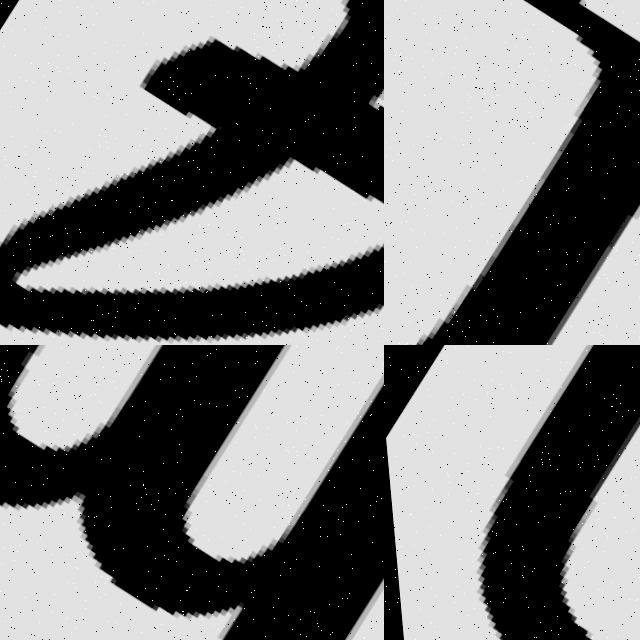M: (0, 345, 384, 640)
N: (384, 345, 640, 640)
R: (384, 0, 640, 345)
